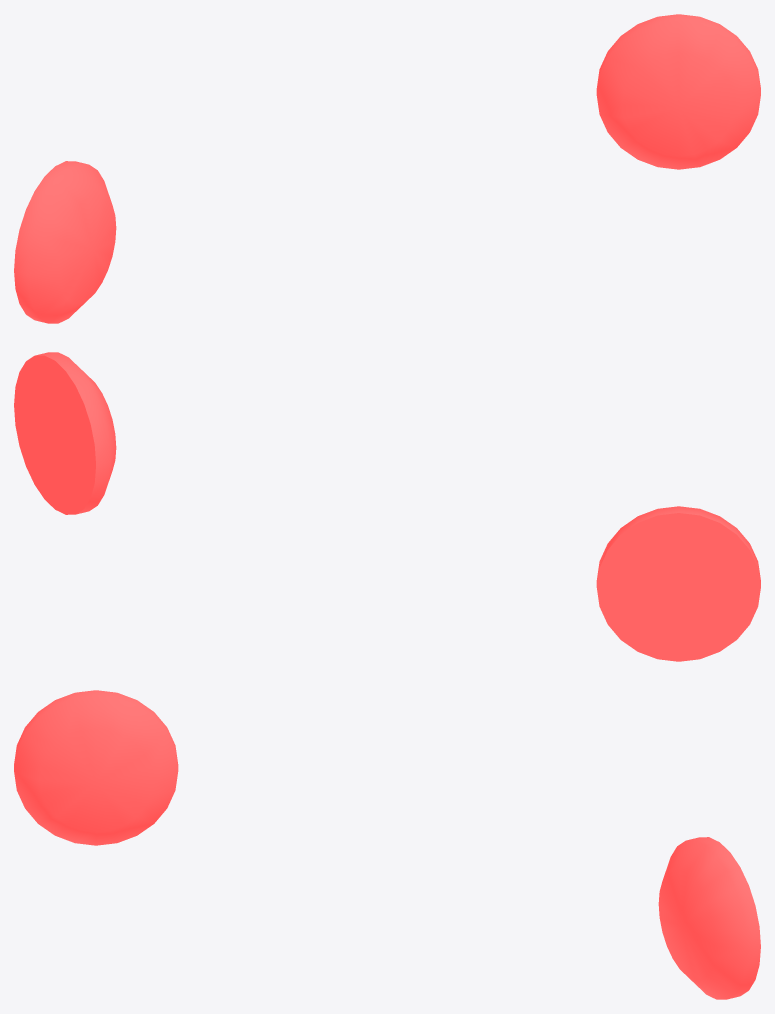
The model's file is EM_DashRed.fbx.
The picture shows the model from 3 angles, top to bottom: view 1: azimuth 30°, elevation 25°; view 2: azimuth 150°, elevation 25°; view 3: azimuth 330°, elevation 25°; orthographic projection.
Parts seen in each view (by area): view 1: EM_DashRed; view 2: EM_DashRed; view 3: EM_DashRed.
Boxes of the visible parts, x1,y1,x2,y2 form: EM_DashRed: (14,14,760,323); EM_DashRed: (14,352,760,661); EM_DashRed: (14,690,760,999).
Bounding box in the file's own units: 2.73 × 0.52 × 0.3239.
